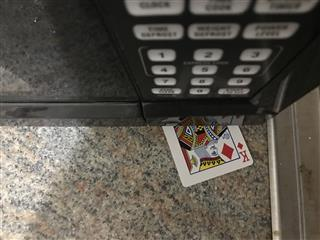KingOfDiamonds: (161, 124, 253, 188)
